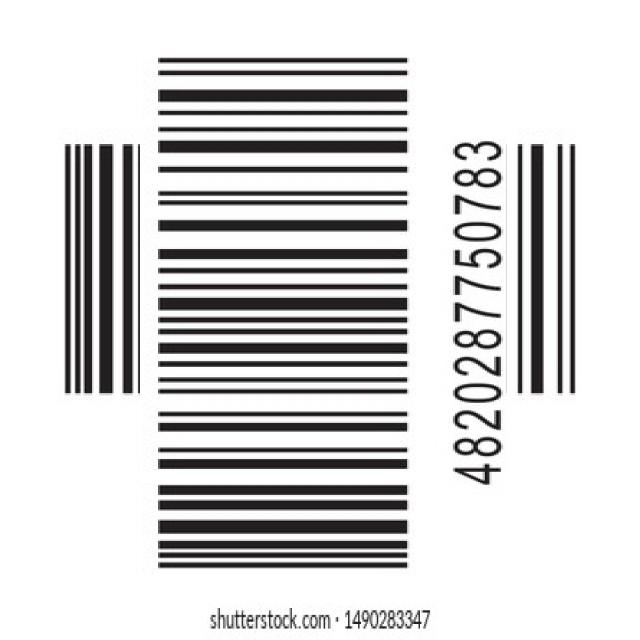Barkod: (97, 84, 548, 534)
